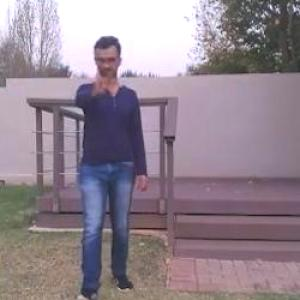takeoff-hand: (89, 64, 119, 100)
